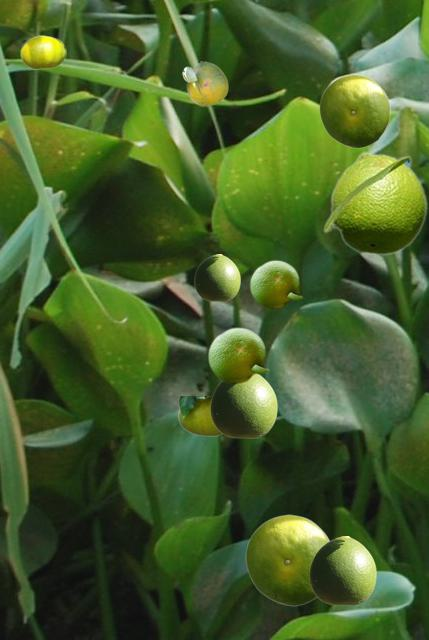dalandan: (322, 151, 427, 255), (245, 514, 329, 605), (319, 74, 389, 147), (309, 536, 375, 604), (210, 375, 276, 437), (207, 326, 269, 383), (249, 259, 302, 308), (194, 254, 239, 300), (182, 61, 227, 105), (178, 396, 221, 435), (20, 35, 65, 68)
